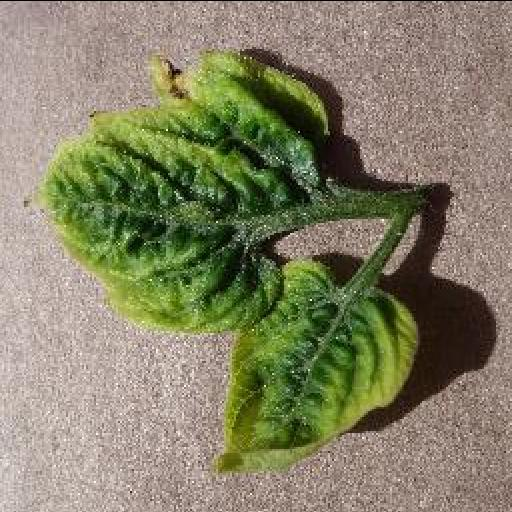disease_tomato: (42, 54, 332, 334), (215, 254, 421, 472)
